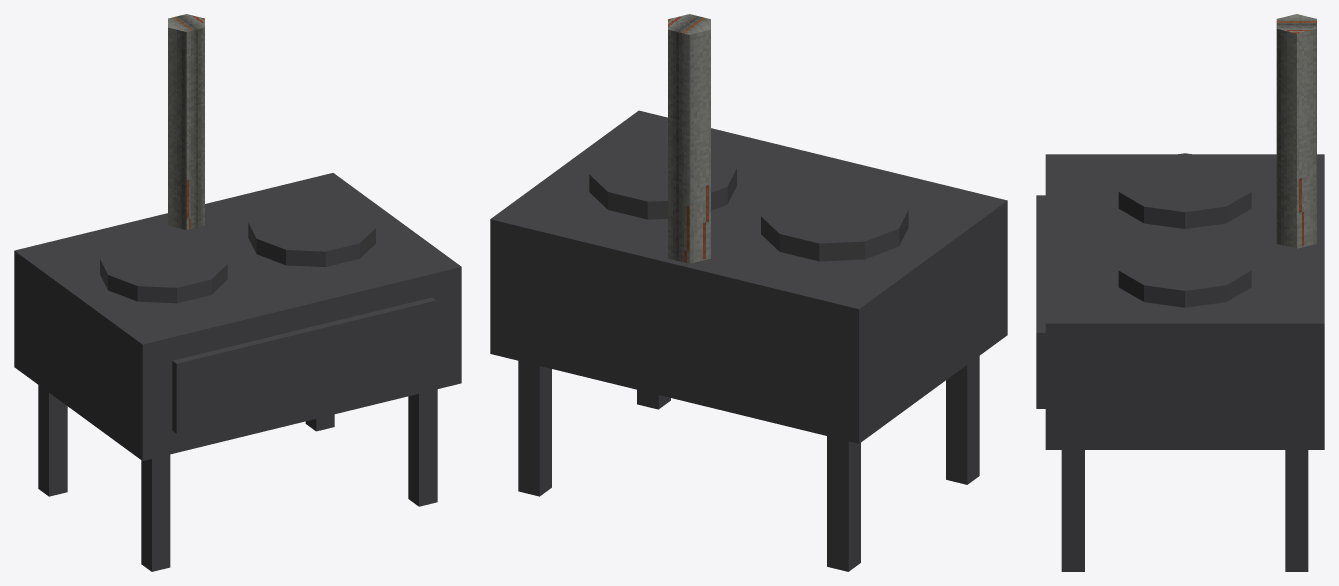
The model's file is fb_field_range.glb.
3 views of the same model, side by side, from view 1: azimuth 30°, elevation 25°; view 2: azimuth 150°, elevation 25°; view 3: azimuth 270°, elevation 25° (orthographic). The views are drawn at different scales.
Parts seen in each view (by area): view 1: fb_field_range; view 2: fb_field_range; view 3: fb_field_range.
Part boxes in pixels (box(x1,y1,x2,y2)): fb_field_range: box(14, 14, 461, 571); fb_field_range: box(490, 14, 1007, 571); fb_field_range: box(1036, 14, 1324, 571).
Size of what is drawn, in the model's own units: 0.86 by 1.12 by 0.62.
Materials: 2 (1 with a texture image).
